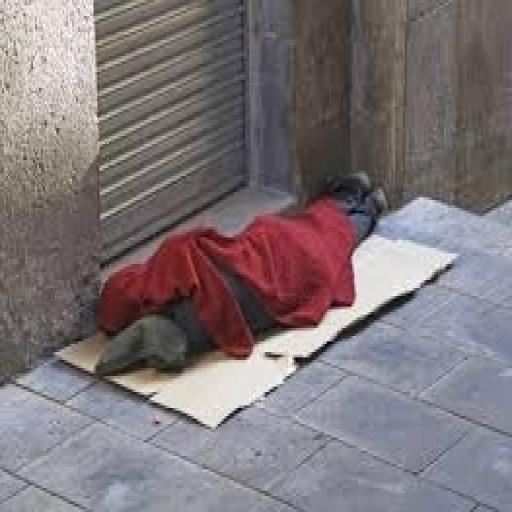sleeping: (92, 165, 390, 379)
